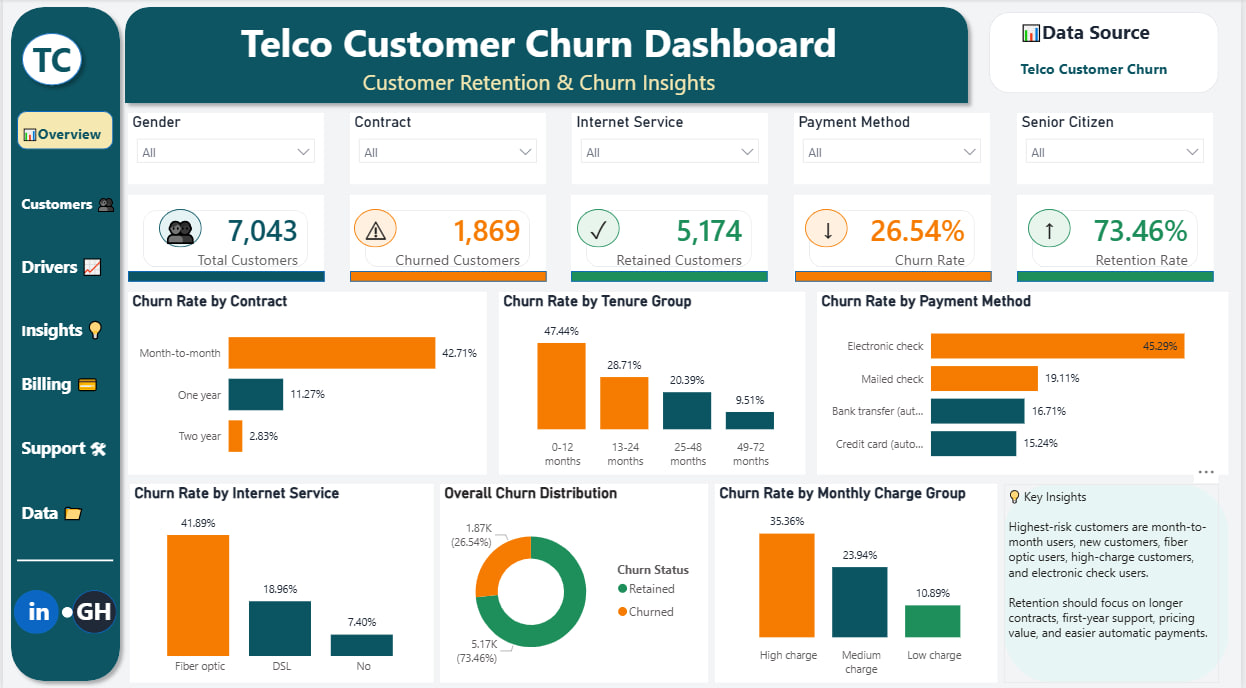

What the dashboard file says about the page in this screenshot:
{"tool":"powerbi","page":{"name":"Page 1","canvas":[1390,775],"ordinal":0},"visuals":[{"type":"shape","box":[0,0,140.4,775],"z":0},{"type":"shape","box":[12,28.8,85.2,76.8],"z":1000},{"type":"shape","box":[128.4,0,964.8,126],"z":2000},{"type":"textbox","box":[199.2,14.4,806.4,111.6],"z":3000},{"type":"shape","box":[1107.6,14.4,258,91.2],"z":4000},{"type":"textbox","box":[1137.6,0,252,105.6],"z":5000},{"type":"slicer","title":"Gender","fields":{"Values":["Telco_Churn.gender"]},"box":[140.4,128.4,219.6,80.4],"z":6000},{"type":"slicer","title":"Contract","fields":{"Values":["Telco_Churn.Contract"]},"box":[389.9,128.4,219.6,80.4],"z":7000},{"type":"slicer","title":"Payment Method","fields":{"Values":["Telco_Churn.PaymentMethod"]},"box":[888.9,128.4,220,80.4],"z":8000},{"type":"slicer","title":"Senior Citizen","fields":{"Values":["Telco_Churn.SeniorCitizen"]},"box":[1138.8,128.4,219.6,80.4],"z":9000},{"type":"slicer","title":"Internet Service ","fields":{"Values":["Telco_Churn.InternetService"]},"box":[639.4,128.4,219.6,80.4],"z":10000},{"type":"cardVisual","fields":{"Data":["Telco_Churn.Total Customers Display"]},"box":[140.4,219.6,219.6,98.4],"z":11000},{"type":"cardVisual","fields":{"Data":["Telco_Churn.Churned Customers Display"]},"box":[389.4,219.6,219.6,98.4],"z":12000},{"type":"cardVisual","fields":{"Data":["Telco_Churn.Retained Customers Display"]},"box":[638.4,219.6,220.8,98.4],"z":13000},{"type":"cardVisual","fields":{"Data":["Telco_Churn.Churn Rate"]},"box":[888.6,219.6,220.8,98.4],"z":14000},{"type":"cardVisual","fields":{"Data":["Telco_Churn.Retention Rate"]},"box":[1138.8,219.6,220.8,98.4],"z":15000},{"type":"shape","box":[140.4,306,220.8,12],"z":16000},{"type":"shape","box":[390,306,220.8,12],"z":17000},{"type":"shape","box":[638.4,306,220.8,12],"z":18000},{"type":"shape","box":[889.2,306,220.8,12],"z":19000},{"type":"shape","box":[1138.8,306,220.8,12],"z":20000},{"type":"shape","box":[175.2,236.4,48,43.2],"z":21000},{"type":"shape","box":[394.8,236.4,48,43.2],"z":22000},{"type":"shape","box":[644.4,236.4,48,43.2],"z":23000},{"type":"shape","box":[901.2,236.4,48,43.2],"z":24000},{"type":"shape","box":[1150.8,236.4,48,43.2],"z":25000},{"type":"textbox","box":[175.2,236.4,48,52.8],"z":26000},{"type":"textbox","box":[387.6,236.4,62.4,52.8],"z":27000},{"type":"textbox","box":[644.4,236.4,48,52.8],"z":28000},{"type":"textbox","box":[901.2,236.4,48,52.8],"z":29000},{"type":"textbox","box":[1150.8,236.4,48,52.8],"z":30000},{"type":"clusteredBarChart","fields":{"Category":["Telco_Churn.Contract"],"Y":["Telco_Churn.Churn Rate"]},"box":[140.4,328.8,403.2,205.2],"z":31000},{"type":"clusteredColumnChart","title":"Churn Rate by Tenure Group","fields":{"Category":["Telco_Churn.TenureGroup"],"Y":["Telco_Churn.Churn Rate"]},"box":[556.8,328.8,344.4,205.2],"z":32000},{"type":"clusteredColumnChart","title":"Churn Rate by Monthly Charge Group","fields":{"Category":["Telco_Churn.MonthlyChargeGroup"],"Y":["Telco_Churn.Churn Rate"]},"box":[800,544.8,316.8,223.2],"z":33000},{"type":"clusteredColumnChart","title":"Churn Rate by Internet Service","fields":{"Category":["Telco_Churn.InternetService"],"Y":["Telco_Churn.Churn Rate"]},"box":[142.8,544.8,340.8,223.2],"z":34000},{"type":"donutChart","title":"Overall Churn Distribution","fields":{"Category":["Telco_Churn.Churn Status"],"Y":["CountNonNull(Telco_Churn.customerID)"]},"box":[491.2,544.8,301.2,223.2],"z":35000},{"type":"clusteredBarChart","title":"Churn Rate by Payment Method","fields":{"Category":["Telco_Churn.PaymentMethod"],"Y":["Telco_Churn.Churn Rate"]},"box":[914.4,328.8,462,205.2],"z":36000},{"type":"textbox","box":[27.6,37.2,69.6,68.4],"z":37000},{"type":"shape","box":[15.6,126,108,43.2],"z":38000},{"type":"textbox","box":[12,134.4,111.6,34.8],"z":39000},{"type":"textbox","box":[15.6,283.2,108,45.6],"z":40000},{"type":"textbox","box":[15.6,354,108,42],"z":41000},{"type":"textbox","box":[15.6,559.2,108,49.2],"z":42000},{"type":"textbox","box":[15.6,213.6,127.2,55.2],"z":43000},{"type":"textbox","box":[15.6,414,124.8,57.6],"z":44000},{"type":"textbox","box":[15.6,486.5,108,58.8],"z":45000},{"type":"shape","box":[15.6,597.6,108,66],"z":46000},{"type":"shape","box":[12,663.6,50.4,49.2],"z":47000},{"type":"shape","box":[78,663.6,50.4,49.2],"z":48000},{"type":"textbox","box":[12,663.6,56.4,49.2],"z":49000},{"type":"textbox","box":[78,663.6,62.4,49.2],"z":50000},{"type":"shape","box":[66,682.8,12,12],"z":51000},{"type":"shape","box":[1124.4,544.8,252,223.2],"z":52000},{"type":"textbox","box":[1124.4,544.8,241.2,223.2],"z":53000}]}

Visuals, with their boxes in screenshot pixels (x1, y1, x2, y2):
shape: [x1=0, y1=0, x2=119, y2=651]
shape: [x1=10, y1=21, x2=82, y2=86]
shape: [x1=108, y1=0, x2=923, y2=103]
textbox: [x1=168, y1=9, x2=849, y2=103]
shape: [x1=935, y1=9, x2=1153, y2=86]
textbox: [x1=960, y1=0, x2=1173, y2=86]
"Gender" slicer: [x1=119, y1=105, x2=304, y2=173]
"Contract" slicer: [x1=329, y1=105, x2=515, y2=173]
"Payment Method" slicer: [x1=751, y1=105, x2=936, y2=173]
"Senior Citizen" slicer: [x1=962, y1=105, x2=1147, y2=173]
"Internet Service " slicer: [x1=540, y1=105, x2=725, y2=173]
cardVisual - Telco_Churn.Total Customers Display: [x1=119, y1=182, x2=304, y2=265]
cardVisual - Telco_Churn.Churned Customers Display: [x1=329, y1=182, x2=514, y2=265]
cardVisual - Telco_Churn.Retained Customers Display: [x1=539, y1=182, x2=725, y2=265]
cardVisual - Telco_Churn.Churn Rate: [x1=750, y1=182, x2=937, y2=265]
cardVisual - Telco_Churn.Retention Rate: [x1=962, y1=182, x2=1148, y2=265]
shape: [x1=119, y1=255, x2=305, y2=265]
shape: [x1=329, y1=255, x2=516, y2=265]
shape: [x1=539, y1=255, x2=725, y2=265]
shape: [x1=751, y1=255, x2=937, y2=265]
shape: [x1=962, y1=255, x2=1148, y2=265]
shape: [x1=148, y1=196, x2=188, y2=233]
shape: [x1=333, y1=196, x2=374, y2=233]
shape: [x1=544, y1=196, x2=585, y2=233]
shape: [x1=761, y1=196, x2=801, y2=233]
shape: [x1=972, y1=196, x2=1012, y2=233]
textbox: [x1=148, y1=196, x2=188, y2=241]
textbox: [x1=327, y1=196, x2=380, y2=241]
textbox: [x1=544, y1=196, x2=585, y2=241]
textbox: [x1=761, y1=196, x2=801, y2=241]
textbox: [x1=972, y1=196, x2=1012, y2=241]
clusteredBarChart - Telco_Churn.Contract x Telco_Churn.Churn Rate: [x1=119, y1=274, x2=459, y2=448]
"Churn Rate by Tenure Group" clusteredColumnChart: [x1=470, y1=274, x2=761, y2=448]
"Churn Rate by Monthly Charge Group" clusteredColumnChart: [x1=675, y1=457, x2=943, y2=645]
"Churn Rate by Internet Service" clusteredColumnChart: [x1=121, y1=457, x2=408, y2=645]
"Overall Churn Distribution" donutChart: [x1=415, y1=457, x2=669, y2=645]
"Churn Rate by Payment Method" clusteredBarChart: [x1=772, y1=274, x2=1162, y2=448]
textbox: [x1=23, y1=28, x2=82, y2=86]
shape: [x1=13, y1=103, x2=104, y2=140]
textbox: [x1=10, y1=110, x2=104, y2=140]
textbox: [x1=13, y1=236, x2=104, y2=274]
textbox: [x1=13, y1=296, x2=104, y2=331]
textbox: [x1=13, y1=469, x2=104, y2=510]
textbox: [x1=13, y1=177, x2=121, y2=224]
textbox: [x1=13, y1=346, x2=119, y2=395]
textbox: [x1=13, y1=408, x2=104, y2=457]
shape: [x1=13, y1=501, x2=104, y2=557]
shape: [x1=10, y1=557, x2=53, y2=599]
shape: [x1=66, y1=557, x2=108, y2=599]
textbox: [x1=10, y1=557, x2=58, y2=599]
textbox: [x1=66, y1=557, x2=119, y2=599]
shape: [x1=56, y1=573, x2=66, y2=583]
shape: [x1=949, y1=457, x2=1162, y2=645]
textbox: [x1=949, y1=457, x2=1153, y2=645]
